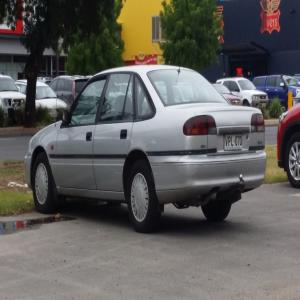Vehicle-registration-plate: (226, 126, 252, 153)
